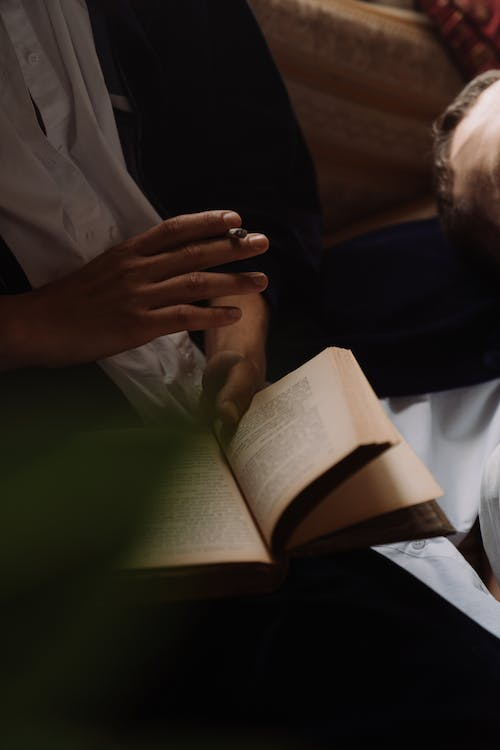cigarette: (228, 223, 249, 242)
